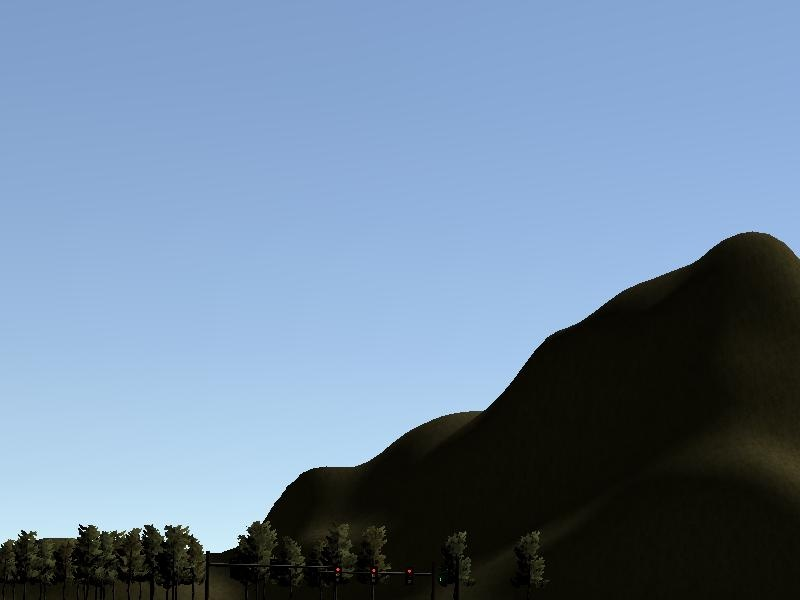RED: (404, 567, 415, 586), (368, 567, 379, 585), (333, 565, 343, 582)
